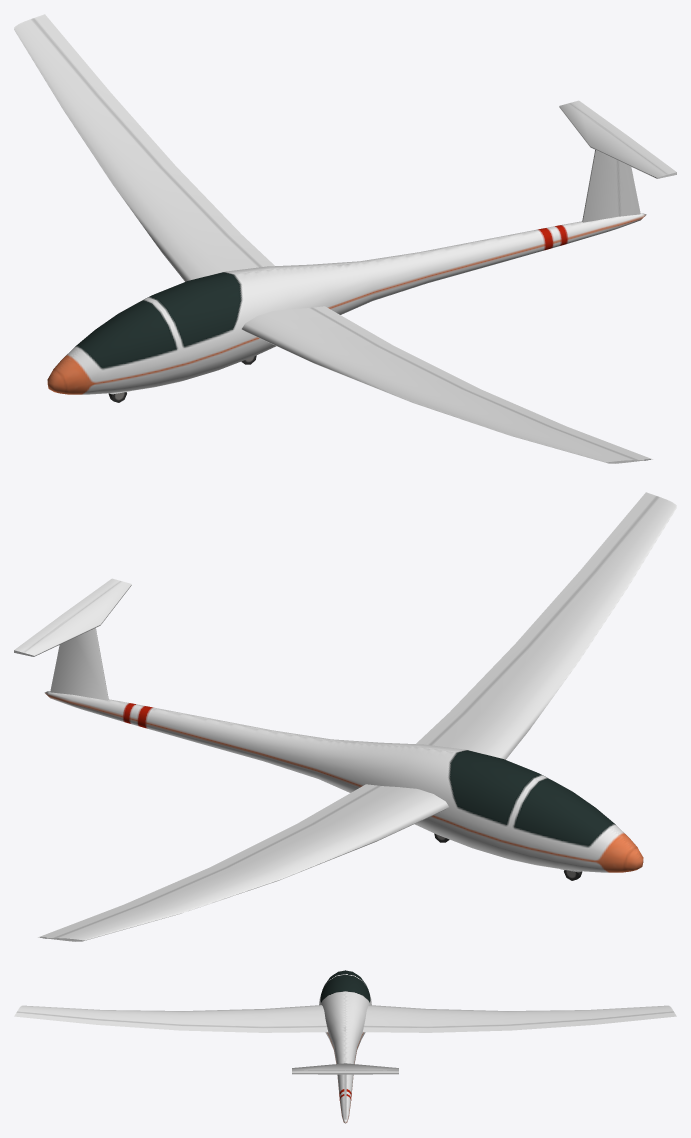
Rendered from Glider.fbx.
3 views of the same model, one above another, from view 1: azimuth 30°, elevation 25°; view 2: azimuth 150°, elevation 25°; view 3: azimuth 270°, elevation 25° (orthographic). The views are drawn at different scales.
Visible parts, largest first — view 1: Glider; view 2: Glider; view 3: Glider.
Part boxes in pixels (bbox=[...]): Glider: bbox=[14, 14, 676, 463]; Glider: bbox=[14, 492, 676, 941]; Glider: bbox=[14, 970, 676, 1123].
Size of the model in its own units: 747 by 168 by 1315.
